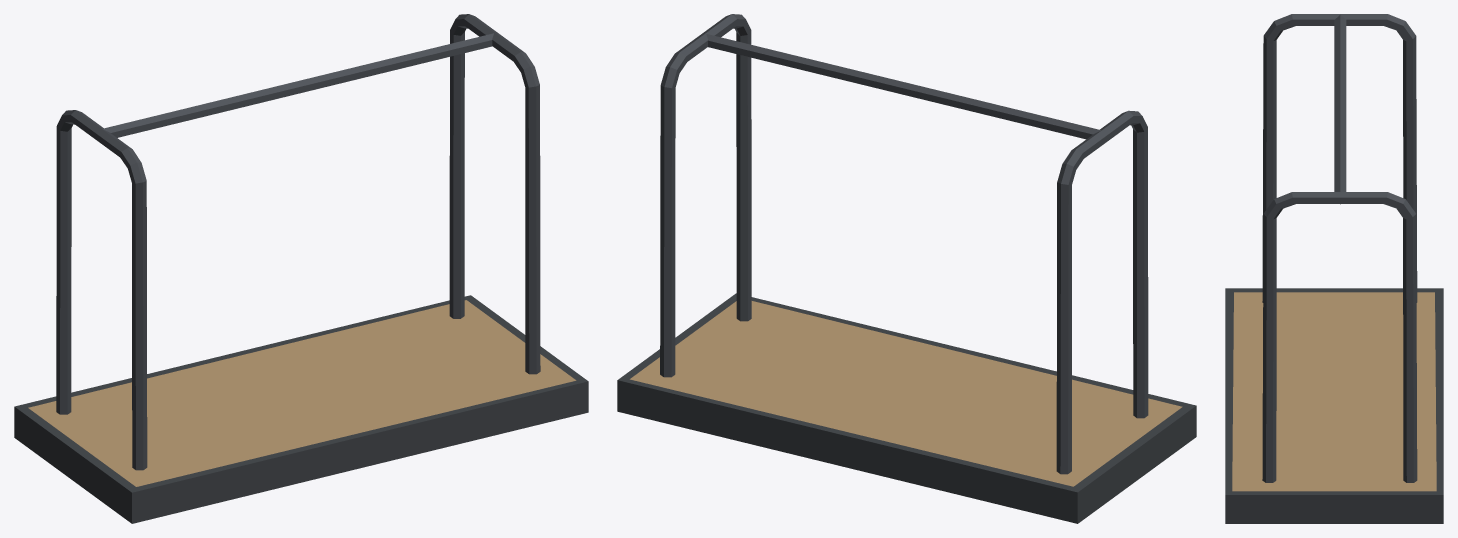
File: SM_Prop_Clothes_Rack_05.fbx
The picture shows the model from 3 angles, left to right: view 1: azimuth 30°, elevation 25°; view 2: azimuth 150°, elevation 25°; view 3: azimuth 270°, elevation 25°; orthographic projection. The views are drawn at different scales.
Parts seen in each view (by area): view 1: SM_Prop_Clothes_Rack_05; view 2: SM_Prop_Clothes_Rack_05; view 3: SM_Prop_Clothes_Rack_05.
Part boxes in pixels (x1,y1,x2,y2): SM_Prop_Clothes_Rack_05: (14,14,588,523); SM_Prop_Clothes_Rack_05: (617,14,1196,523); SM_Prop_Clothes_Rack_05: (1225,14,1443,523).
Size of the model in its own units: 210 by 150 by 93.69.
